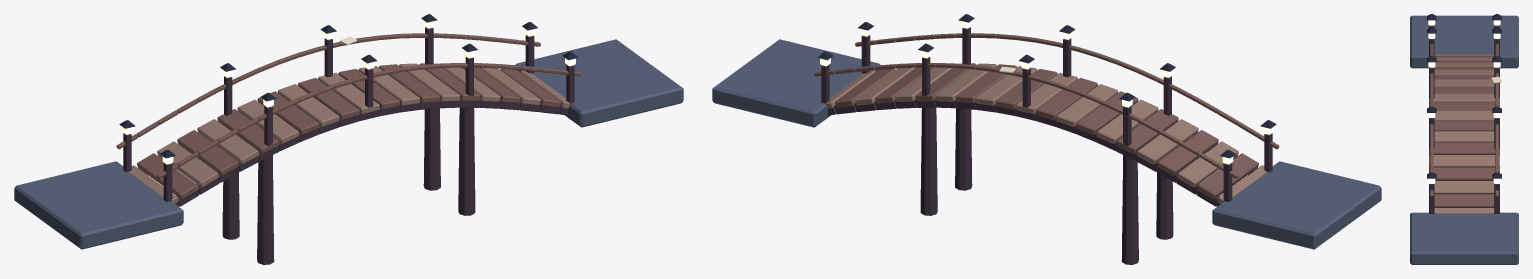
File: arched_footbridge.glb
3 renders of one model, left to right at view 1: azimuth 30°, elevation 25°; view 2: azimuth 150°, elevation 25°; view 3: azimuth 270°, elevation 25°, orthographic. The views are drawn at different scales.
Parts seen in each view (by area): view 1: FootbridgeRoot_Merged; view 2: FootbridgeRoot_Merged; view 3: FootbridgeRoot_Merged.
Part boxes in pixels (x1=…): FootbridgeRoot_Merged: x1=14, y1=14, x2=683, y2=264; FootbridgeRoot_Merged: x1=712, y1=14, x2=1381, y2=264; FootbridgeRoot_Merged: x1=1410, y1=14, x2=1518, y2=264.
Bounding box in the file's own units: 18.6 × 5.42 × 3.6.
